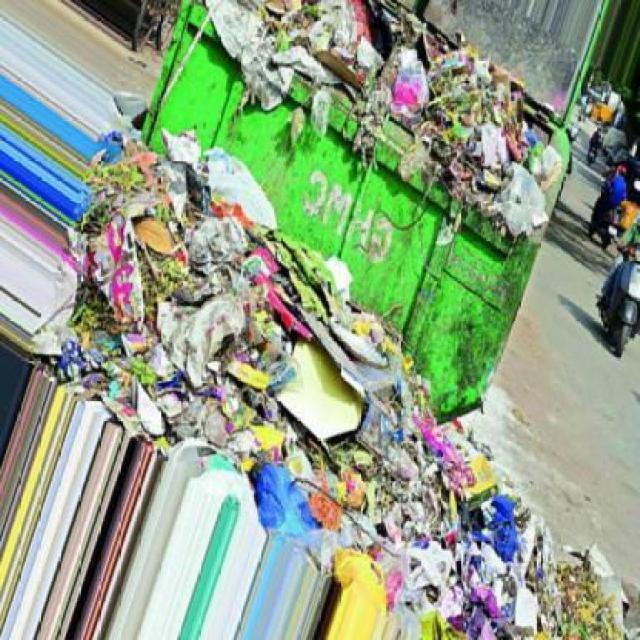garbage: (83, 87, 569, 640), (189, 0, 540, 84), (574, 540, 640, 638)
